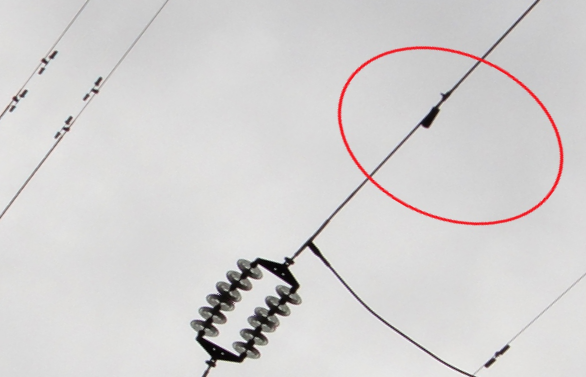damper: (483, 342, 511, 368), (80, 75, 103, 102), (37, 48, 58, 76), (52, 113, 74, 139), (8, 88, 28, 113)
damper_defect: (420, 85, 457, 129)
